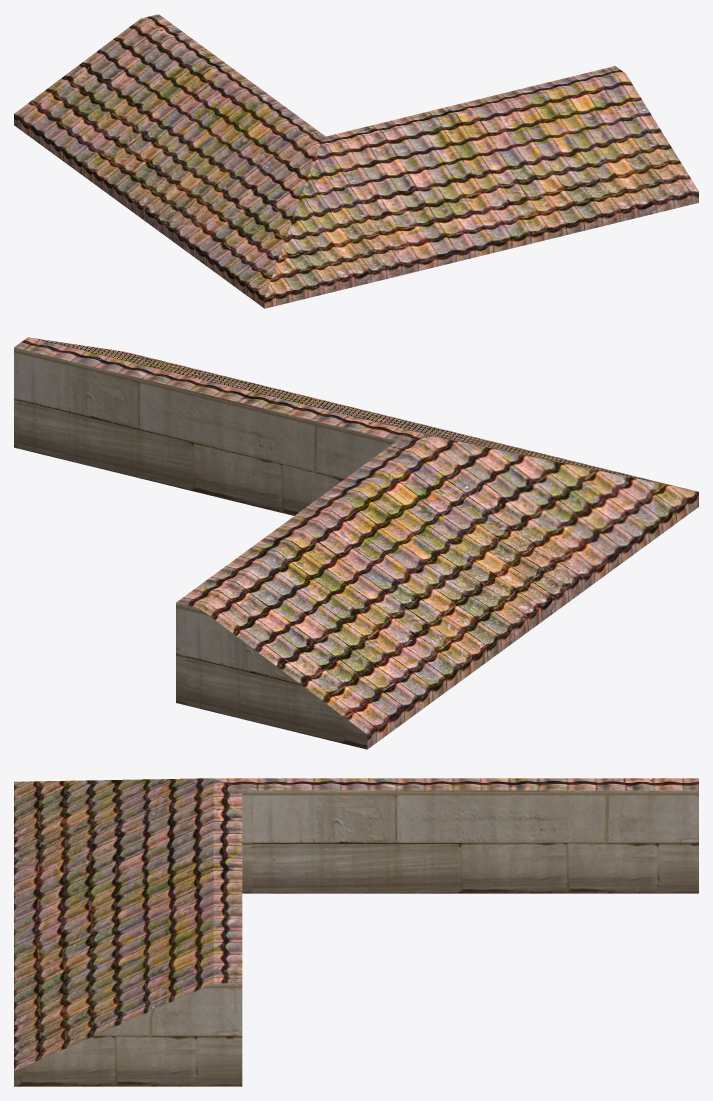
The model's file is svspartaroof5.dae.
3 views of the same model, one above another, from view 1: azimuth 30°, elevation 25°; view 2: azimuth 150°, elevation 25°; view 3: azimuth 270°, elevation 25° (orthographic). The views are drawn at different scales.
Visible parts, largest first — view 1: cube12_sep29-0; view 2: cube12_sep29-0; view 3: cube12_sep29-0.
Boxes of the visible parts, x1,y1,x2,y2 form: cube12_sep29-0: (14, 14, 698, 308); cube12_sep29-0: (14, 337, 698, 749); cube12_sep29-0: (14, 778, 698, 1086).
Bounding box in the file's own units: 450 × 75 × 450.
